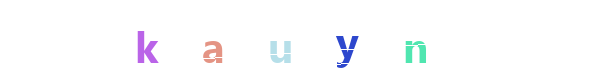A: (173, 0, 253, 80)
K: (124, 0, 204, 80)
N: (375, 0, 455, 80)
U: (263, 0, 343, 80)
Y: (306, 0, 386, 80)
